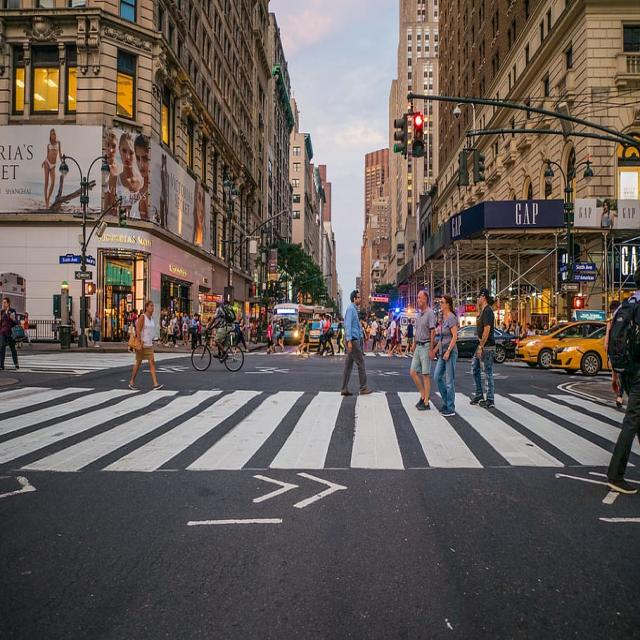Buses: (273, 301, 304, 343)
Passenger Car: (550, 327, 613, 376), (515, 327, 550, 369)
Pedestrians: (606, 270, 640, 497), (191, 298, 246, 372), (335, 290, 374, 394), (469, 286, 498, 410), (130, 299, 164, 392), (434, 293, 458, 416), (410, 292, 434, 412), (1, 296, 28, 373)
